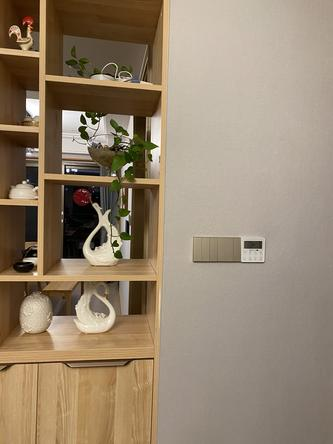switch: (208, 236, 217, 262), (192, 238, 202, 261), (201, 238, 208, 261)
